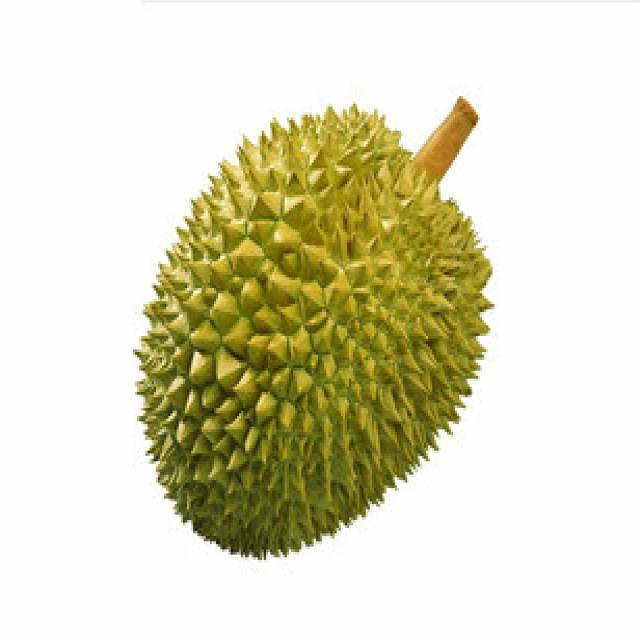immature: (128, 98, 494, 554)
